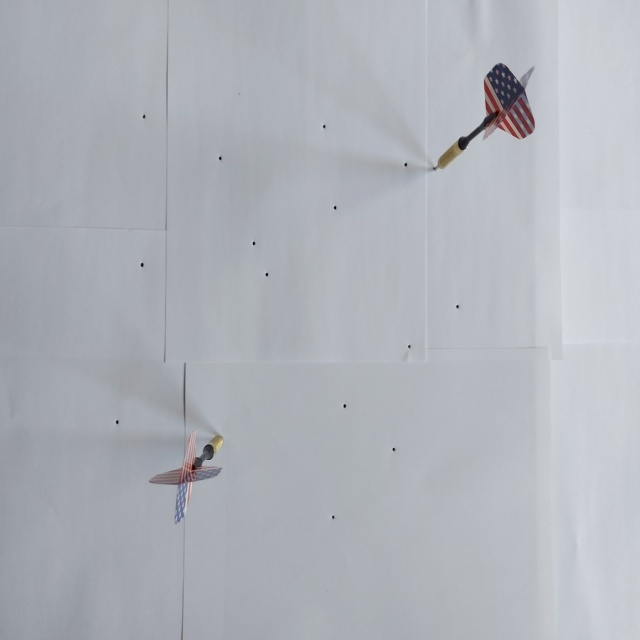Dart: (429, 60, 542, 176), (143, 423, 236, 527)
